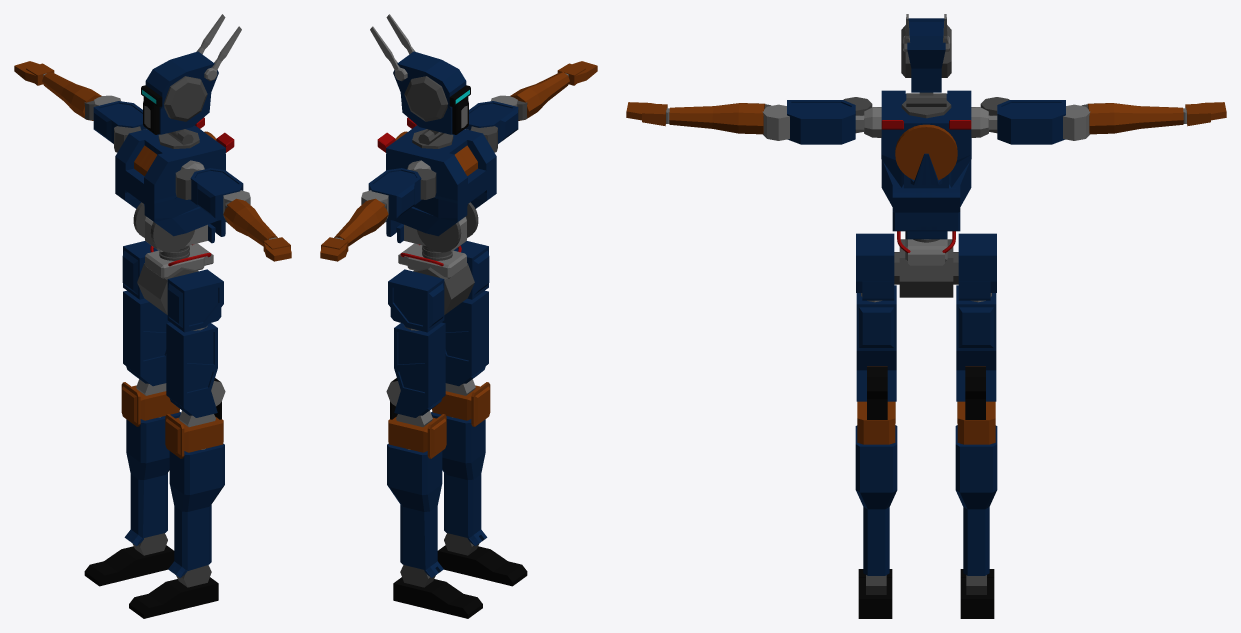
File: robot.fbx
3 renders of one model, left to right at view 1: azimuth 30°, elevation 25°; view 2: azimuth 150°, elevation 25°; view 3: azimuth 270°, elevation 25°, orthographic. The views are drawn at different scales.
Parts seen in each view (by area): view 1: Cube; view 2: Cube; view 3: Cube.
Part boxes in pixels (x1,y1,x2,y2): Cube: (14, 14, 291, 618); Cube: (320, 14, 597, 618); Cube: (626, 14, 1226, 618).
Size of the model in its own units: 121 by 530 by 459.
